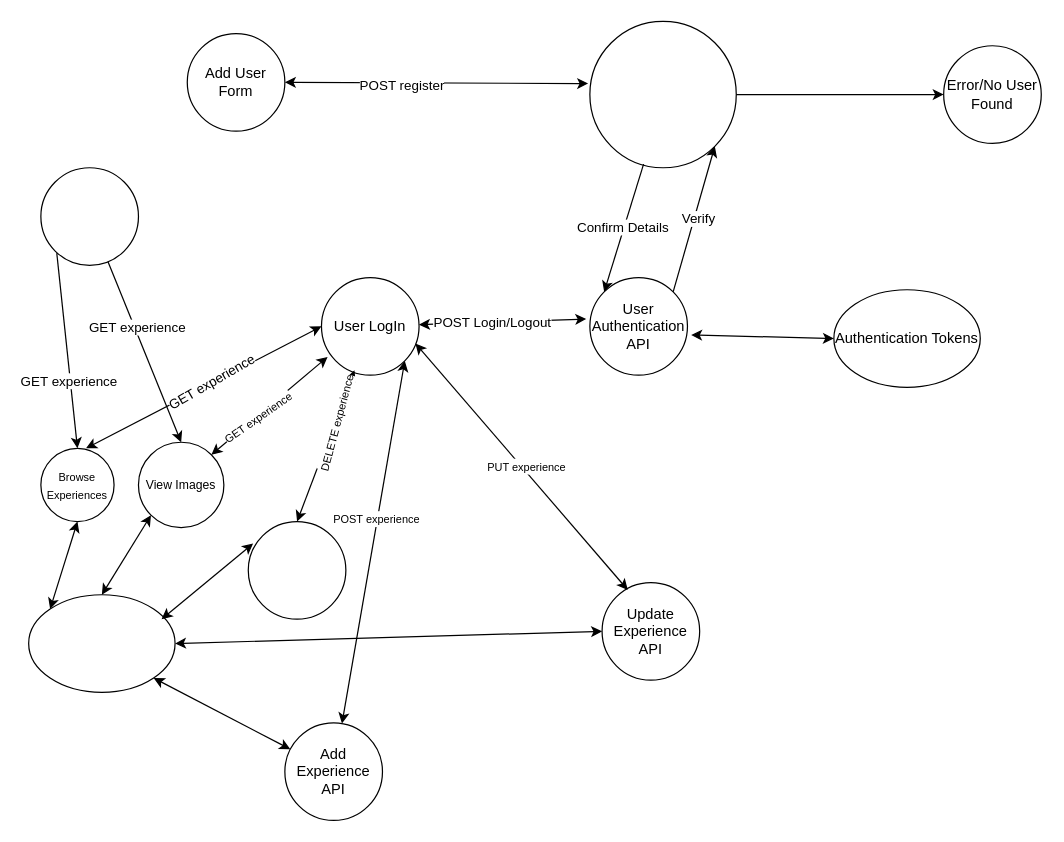
This 1064x842 diagram has some shape labels left out. The shapes that lost their labels are listed below. From the top down, each one's centre as x and y in pixels, then its label:
(662,94): User Database
(89,216): Not Login User
(296,569): Delete Experience API
(101,643): Location Database
